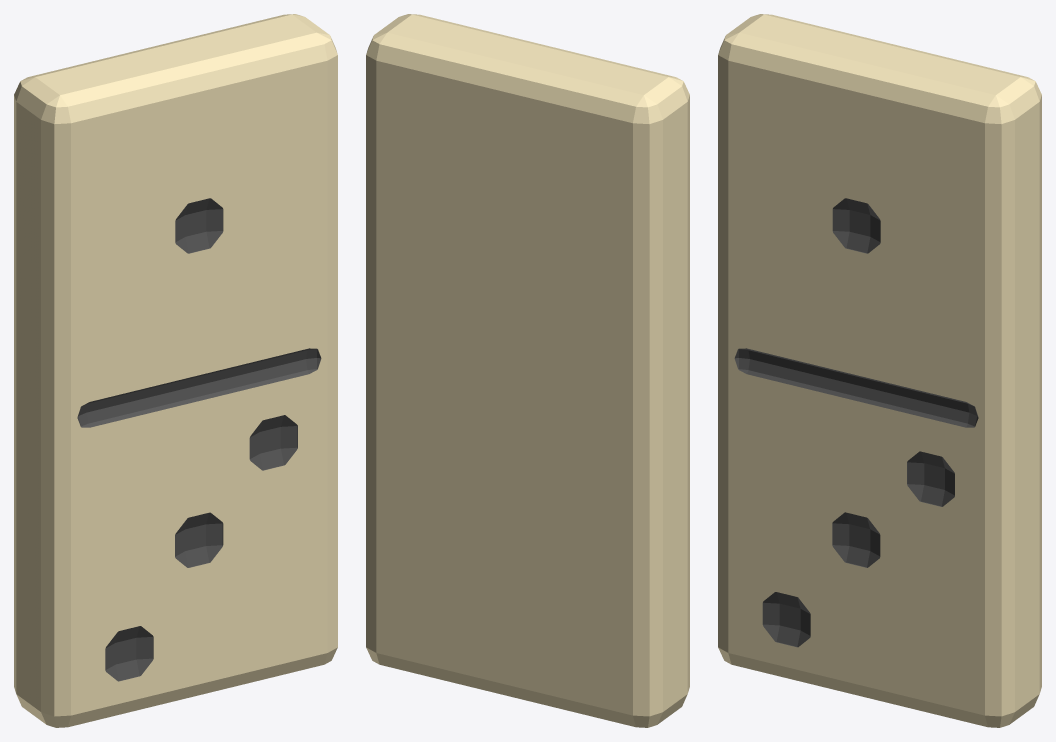
The model's file is dominoes 1x3.fbx.
3 views of the same model, side by side, from view 1: azimuth 30°, elevation 25°; view 2: azimuth 150°, elevation 25°; view 3: azimuth 330°, elevation 25° (orthographic).
Parts seen in each view (by area): view 1: Boole_5; view 2: Boole_5; view 3: Boole_5.
Boxes of the visible parts, bbox=[...] form: Boole_5: bbox=[14, 14, 337, 727]; Boole_5: bbox=[366, 14, 689, 727]; Boole_5: bbox=[718, 14, 1041, 727].
Bounding box in the file's own units: 200 × 410 × 55.02.
